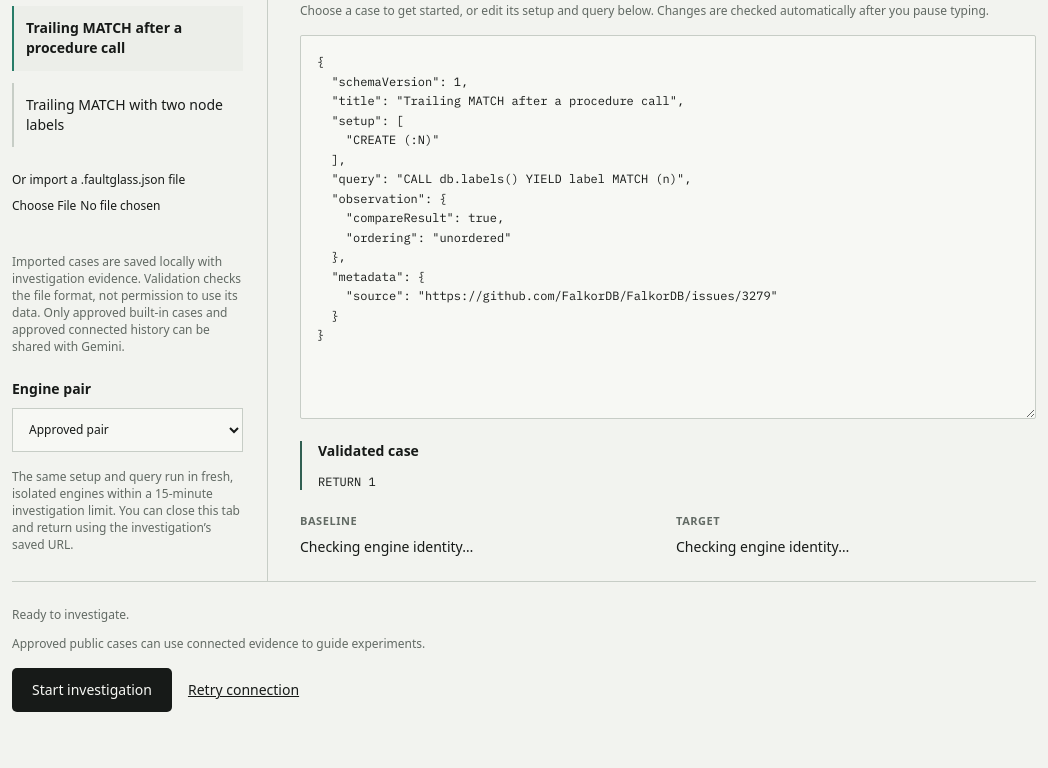
case admission › does not submit when browser recovery storage fails
(page scrolled)
Click the button "Start investigation": (92, 690) [12,668,172,712]
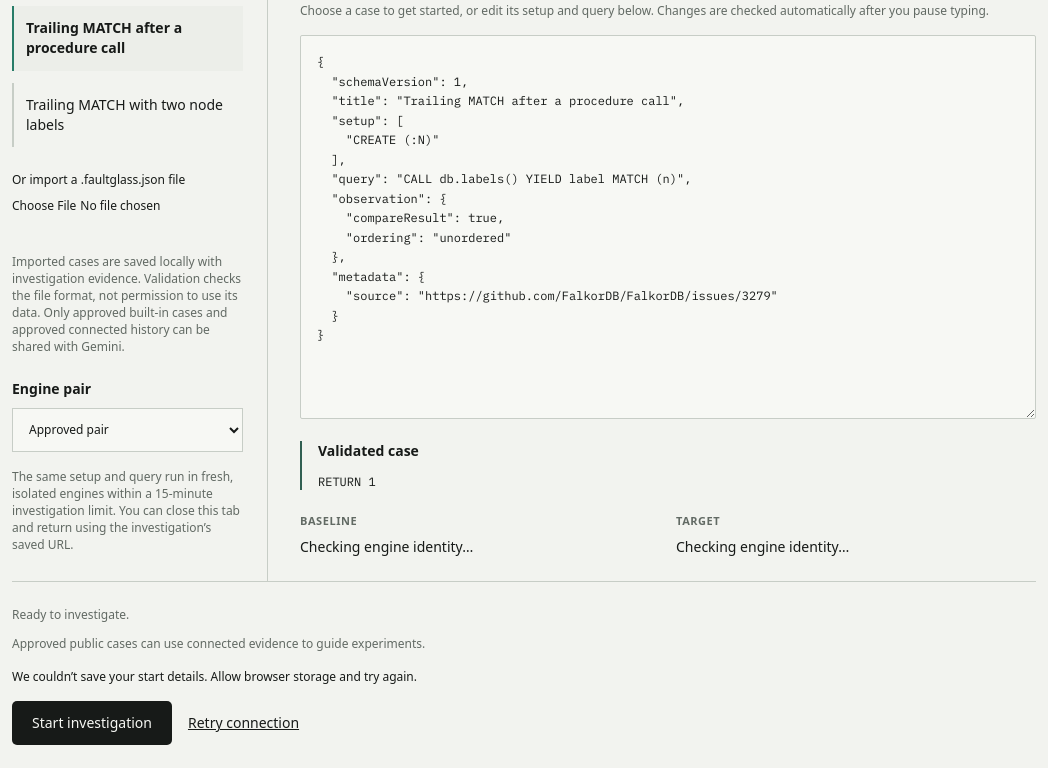
Expected: the text "Allow browser storage" is shown, [12,668,417,685]
